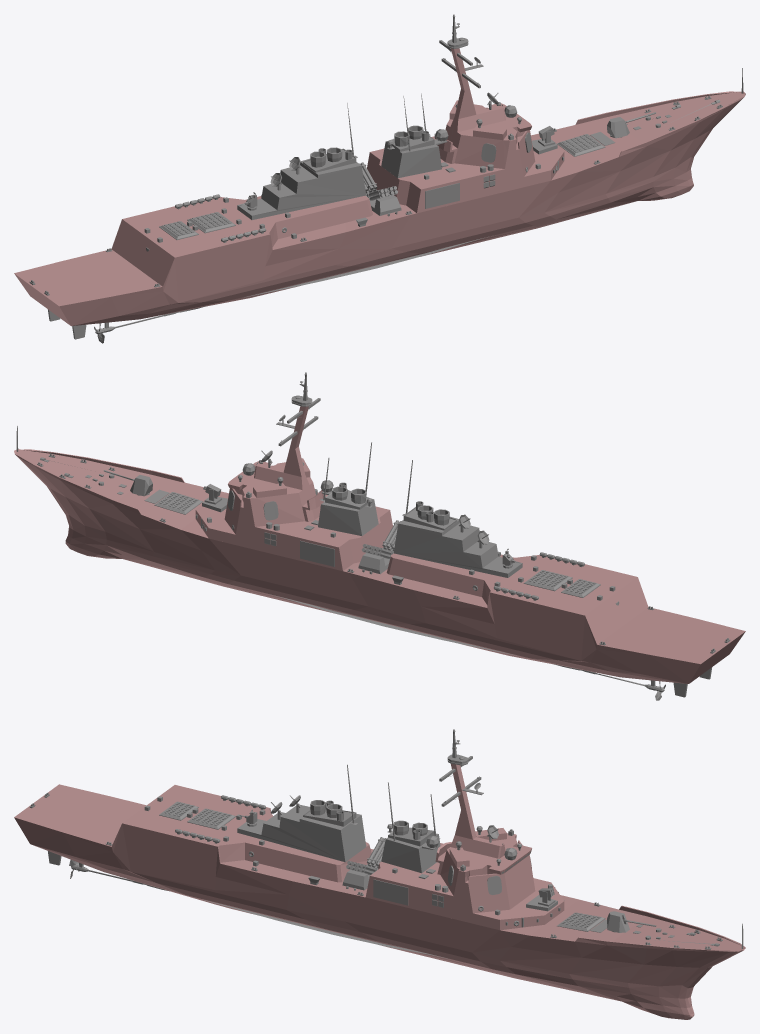
File: Sejong.glb
3 renders of one model, top to bottom at view 1: azimuth 30°, elevation 25°; view 2: azimuth 150°, elevation 25°; view 3: azimuth 330°, elevation 25°, orthographic.
Visible parts, largest first — view 1: deck_hull tex_0, prop_prop tex_0; view 2: deck_hull tex_0, prop_prop tex_0; view 3: deck_hull tex_0, prop_prop tex_0.
Boxes of the visible parts, <box> form: deck_hull tex_0: <box>14,48,745,326</box>; prop_prop tex_0: <box>29,14,743,343</box>; deck_hull tex_0: <box>14,406,745,683</box>; prop_prop tex_0: <box>16,372,730,700</box>; deck_hull tex_0: <box>14,763,745,1019</box>; prop_prop tex_0: <box>29,729,743,958</box>.
Bounding box in the file's own units: 166 × 52.39 × 21.4.
